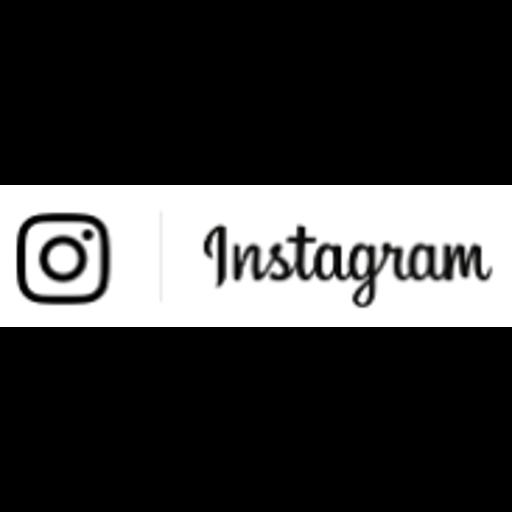Instagram: (0, 185, 512, 327)
